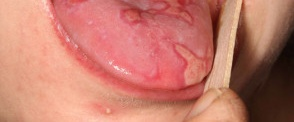SJS-TEN: (169, 39, 215, 91), (114, 0, 199, 28)
